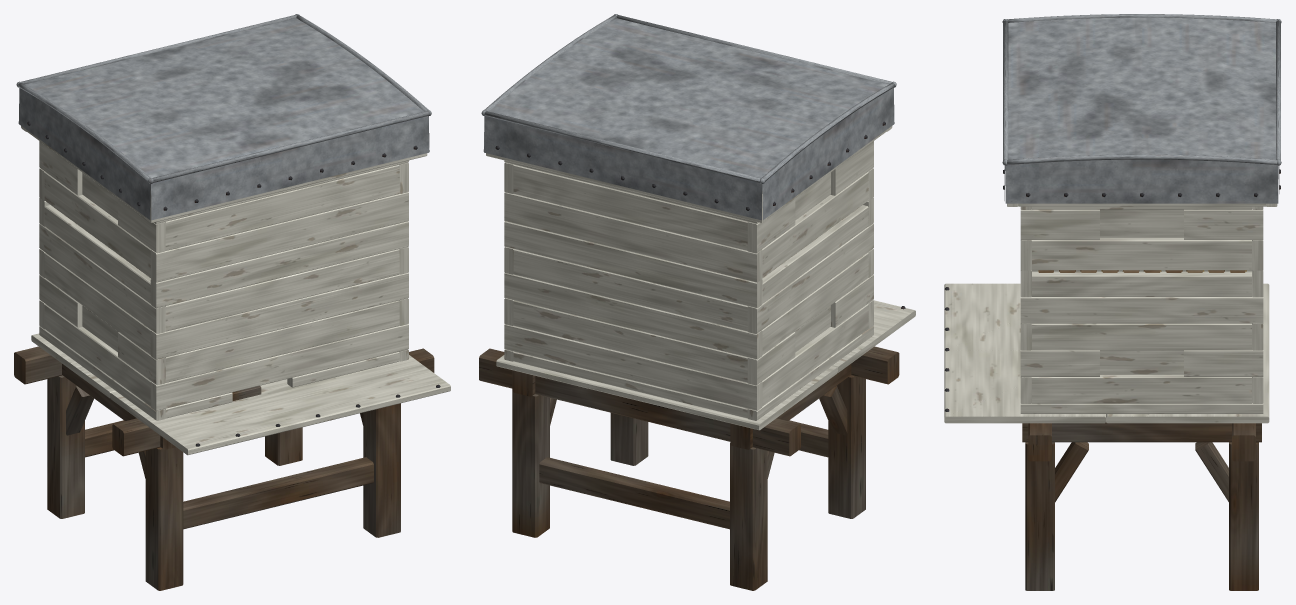
File: colmena_cuadros.glb
3 views of the same model, side by side, from view 1: azimuth 30°, elevation 25°; view 2: azimuth 150°, elevation 25°; view 3: azimuth 270°, elevation 25° (orthographic). The views are drawn at different scales.
Visible parts, largest first — view 1: Techo, Cuerpo, Soporte, Alza; view 2: Techo, Cuerpo, Soporte, Alza; view 3: Techo, Cuerpo, Soporte, Alza.
Boxes of the visible parts, left/top/right/bottom form: Techo: left=16, top=14, right=431, bottom=223; Cuerpo: left=39, top=198, right=408, bottom=410; Soporte: left=14, top=326, right=450, bottom=590; Alza: left=39, top=141, right=408, bottom=282; Techo: left=481, top=14, right=896, bottom=223; Cuerpo: left=504, top=198, right=873, bottom=410; Soporte: left=479, top=300, right=915, bottom=590; Alza: left=504, top=141, right=873, bottom=282; Techo: left=1002, top=14, right=1281, bottom=206; Cuerpo: left=1020, top=270, right=1263, bottom=403; Soporte: left=944, top=283, right=1269, bottom=590; Alza: left=1020, top=206, right=1263, bottom=270.
Size of the model in its own units: 0.62 by 0.8193 by 0.563.
7 materials, 7 textured.
